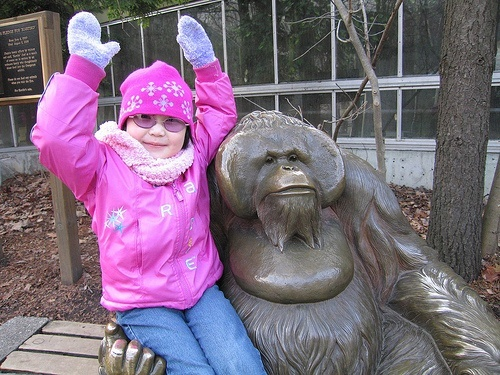head: (122, 60, 192, 159)
person: (32, 6, 305, 368)
